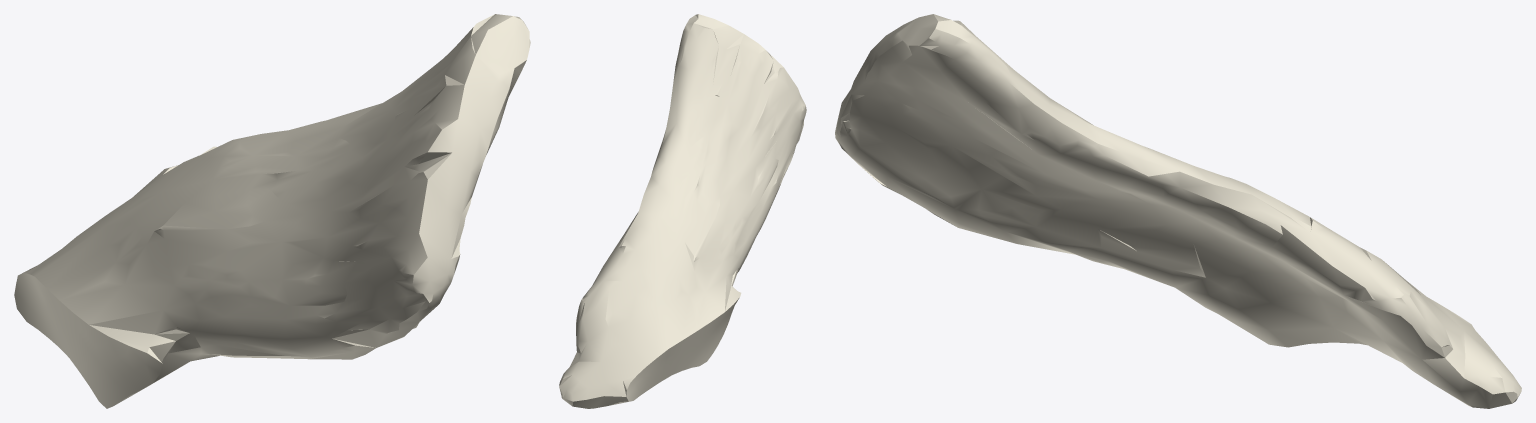
File: fma44237_mm1366m.glb
The picture shows the model from 3 angles, left to right: view 1: azimuth 30°, elevation 25°; view 2: azimuth 150°, elevation 25°; view 3: azimuth 270°, elevation 25°; orthographic projection. The views are drawn at different scales.
Parts seen in each view (by area): view 1: FMA44237_MM1366M; view 2: FMA44237_MM1366M; view 3: FMA44237_MM1366M.
Part boxes in pixels (<box>): FMA44237_MM1366M: <box>14,14,530,408</box>; FMA44237_MM1366M: <box>559,14,806,408</box>; FMA44237_MM1366M: <box>835,14,1521,408</box>.
Bounding box in the file's own units: 0.00765 × 0.0144 × 0.0212.
